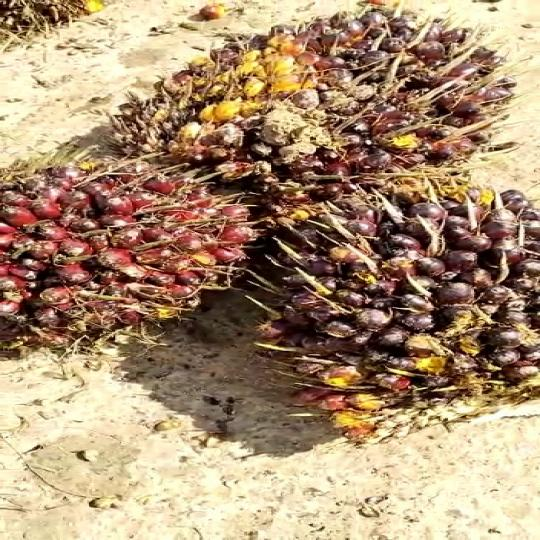kurang masak: (111, 6, 540, 202), (260, 180, 540, 434), (0, 151, 271, 351)
